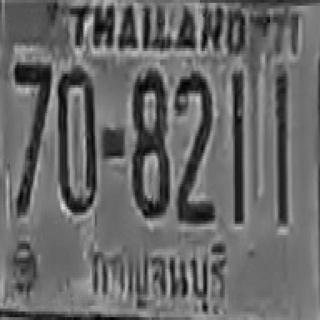N00: (58, 62, 96, 212)
N01: (231, 68, 243, 221), (275, 68, 287, 221)
N02: (174, 68, 212, 221)
N07: (13, 58, 50, 214), (13, 58, 50, 166)
N08: (132, 68, 168, 215)
P17: (86, 235, 233, 318)
